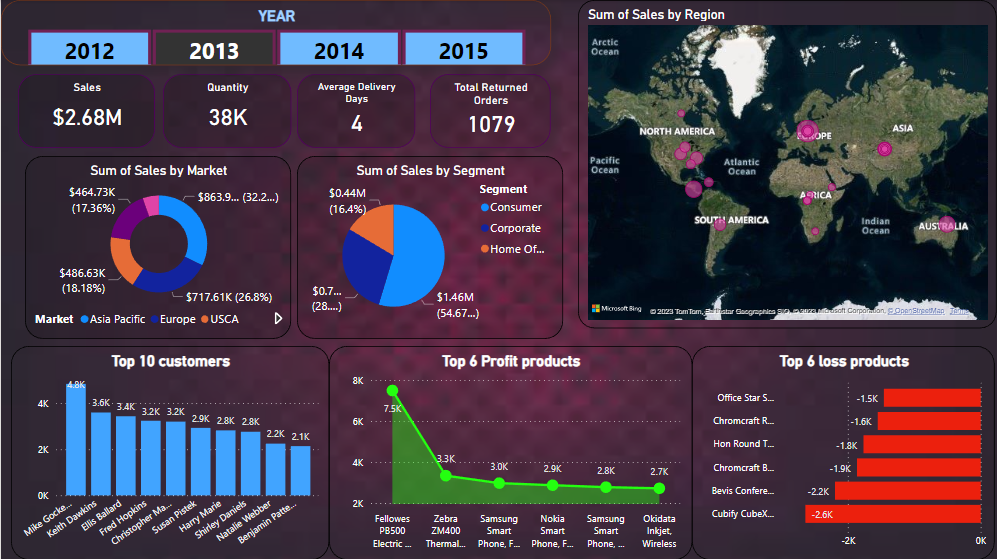

The dashboard page shown, as its layout file describes it:
{"tool":"powerbi","page":{"name":"Page 1","canvas":[1280,720],"ordinal":0},"visuals":[{"type":"card","title":"Sales","fields":{"Values":["Orders.Sales"]},"box":[22,94.6,175.9,94.6],"z":0},{"type":"card","title":"Quantity","fields":{"Values":["Orders.Quantity"]},"box":[207.8,94.6,164.9,94.6],"z":1000},{"type":"card","title":"Average Delivery Days","fields":{"Values":["Orders.Delivery Days"]},"box":[380.5,94.6,151.8,94.6],"z":2000},{"type":"slicer","title":"YEAR","fields":{"Values":["Orders.Year"]},"box":[0,0,706.8,83.5],"z":3000},{"type":"card","title":"Total Returned Orders","fields":{"Values":["Returns.Return Orders"]},"box":[550.9,94.6,155.1,94.6],"z":4000},{"type":"map","fields":{"Category":["Orders.Region"],"Size":["Orders.Sales"]},"box":[741.5,0,538.5,421.5],"z":5000},{"type":"areaChart","title":"Top 6 Profit products ","fields":{"Category":["Orders.Product Name"],"Y":["Orders.Profit"]},"box":[421.5,444.7,466.5,275],"z":6000},{"type":"barChart","title":"Top 6 loss products","fields":{"Category":["Orders.Product Name"],"Y":["Orders.Profit"]},"box":[888,444.7,389.4,275],"z":7000},{"type":"pieChart","fields":{"Category":["Orders.Segment"],"Y":["Orders.Sales"]},"box":[380.4,200.5,341.8,235.2],"z":8000},{"type":"donutChart","fields":{"Category":["Orders.Market"],"Y":["Orders.Sales"]},"box":[30.8,200.5,341.8,235.2],"z":9000},{"type":"columnChart","title":"Top 10 customers","fields":{"Category":["Orders.Customer Name"],"Y":["Orders.Profit"]},"box":[12.9,444.7,408.7,275],"z":10000}]}

Visuals, with their boxes in screenshot pixels (x1, y1, x2, y2), scaled from the page's 1280x720 canvas onto the 997x559 screenshot:
"Sales" card: (left=17, top=73, right=154, bottom=147)
"Quantity" card: (left=162, top=73, right=290, bottom=147)
"Average Delivery Days" card: (left=296, top=73, right=415, bottom=147)
"YEAR" slicer: (left=0, top=0, right=551, bottom=65)
"Total Returned Orders" card: (left=429, top=73, right=550, bottom=147)
map - Orders.Region x Orders.Sales: (left=578, top=0, right=996, bottom=327)
"Top 6 Profit products " areaChart: (left=328, top=345, right=692, bottom=558)
"Top 6 loss products" barChart: (left=692, top=345, right=995, bottom=558)
pieChart - Orders.Segment x Orders.Sales: (left=296, top=156, right=563, bottom=338)
donutChart - Orders.Market x Orders.Sales: (left=24, top=156, right=290, bottom=338)
"Top 10 customers" columnChart: (left=10, top=345, right=328, bottom=558)
